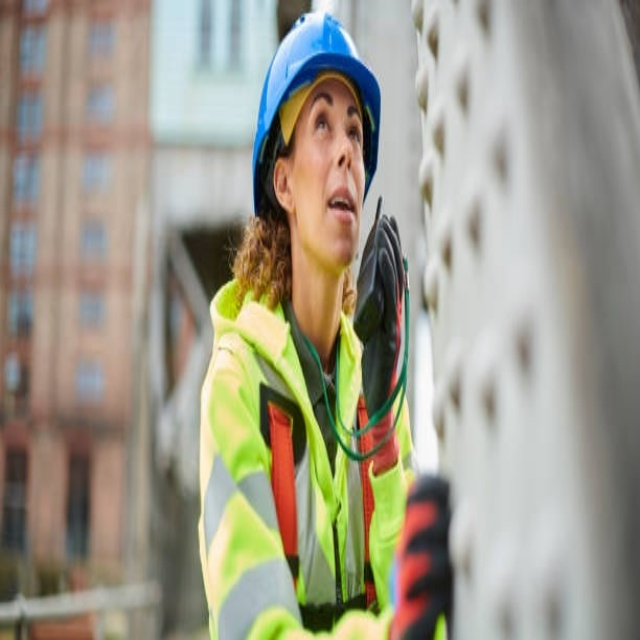Guantes: (353, 203, 406, 428), (388, 471, 454, 638)
Sin_gafas: (304, 86, 363, 151)
Sin_mascara: (324, 182, 359, 241)
